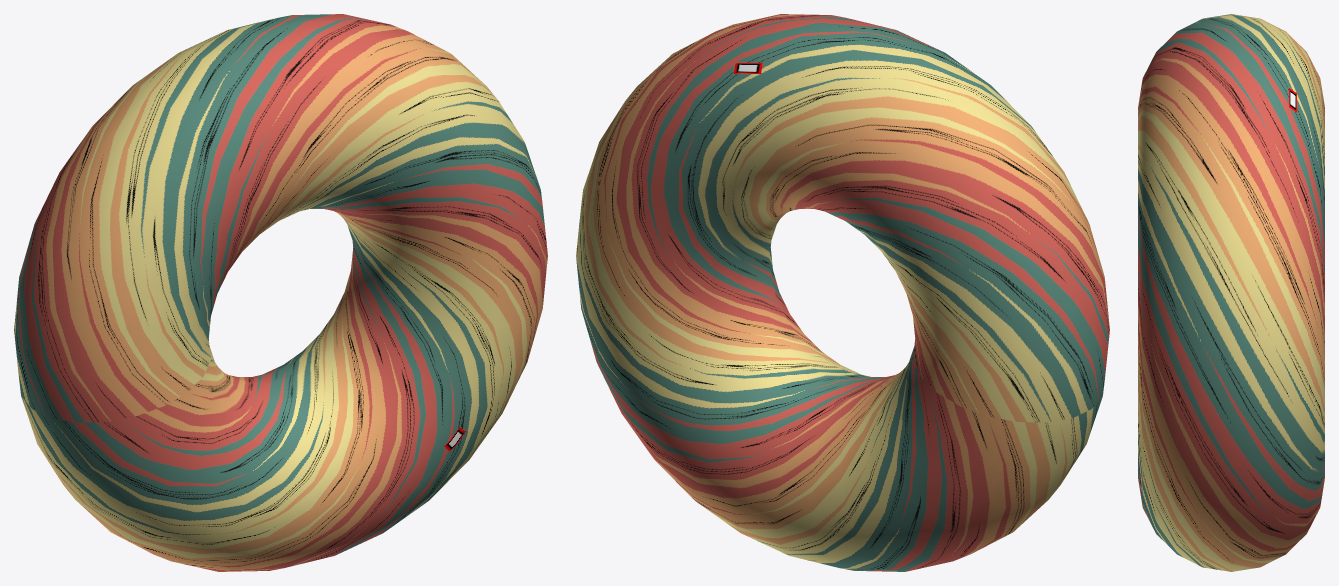
Rendered from uv_checkerboard_res_1024_iter_770_cat_map.obj.
3 views of the same model, side by side, from view 1: azimuth 30°, elevation 25°; view 2: azimuth 150°, elevation 25°; view 3: azimuth 270°, elevation 25° (orthographic). The views are drawn at different scales.
Size of the model in its own units: 3 by 2.98 by 1.
